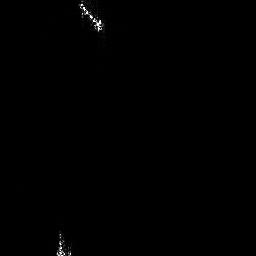ship: (76, 1, 105, 33)
